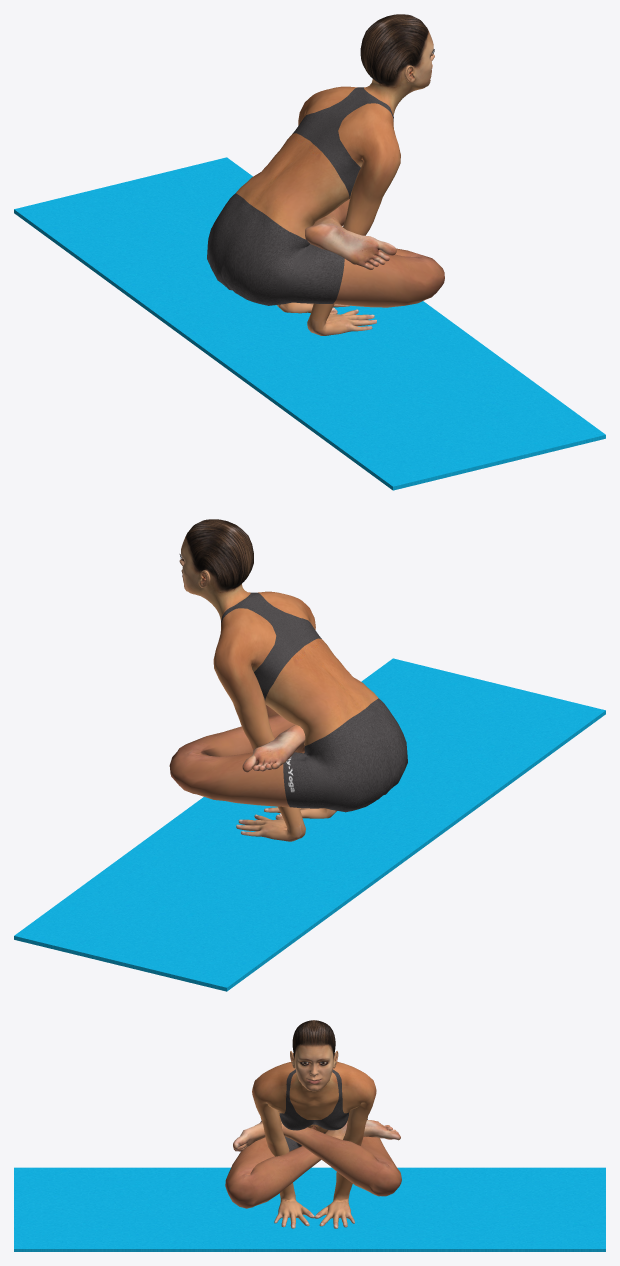
The model's file is kukkutasana.glb.
3 views of the same model, one above another, from view 1: azimuth 30°, elevation 25°; view 2: azimuth 150°, elevation 25°; view 3: azimuth 270°, elevation 25° (orthographic). The views are drawn at different scales.
Visible parts, largest first — view 1: Mat-one-piece_jpg-material, Lily_Texture01_06_2016_jpg-material; view 2: Mat-one-piece_jpg-material, Lily_Texture01_06_2016_jpg-material; view 3: Mat-one-piece_jpg-material, Lily_Texture01_06_2016_jpg-material.
Boxes of the visible parts, box(x1,y1,x2,y2) form: Mat-one-piece_jpg-material: box(14, 157, 605, 490); Lily_Texture01_06_2016_jpg-material: box(207, 14, 444, 335); Mat-one-piece_jpg-material: box(14, 658, 605, 991); Lily_Texture01_06_2016_jpg-material: box(169, 519, 407, 841); Mat-one-piece_jpg-material: box(14, 1167, 605, 1251); Lily_Texture01_06_2016_jpg-material: box(225, 1020, 401, 1228).
Size of the model in its own units: 2.19 by 2.55 by 6.17.
3 materials, 2 textured.
